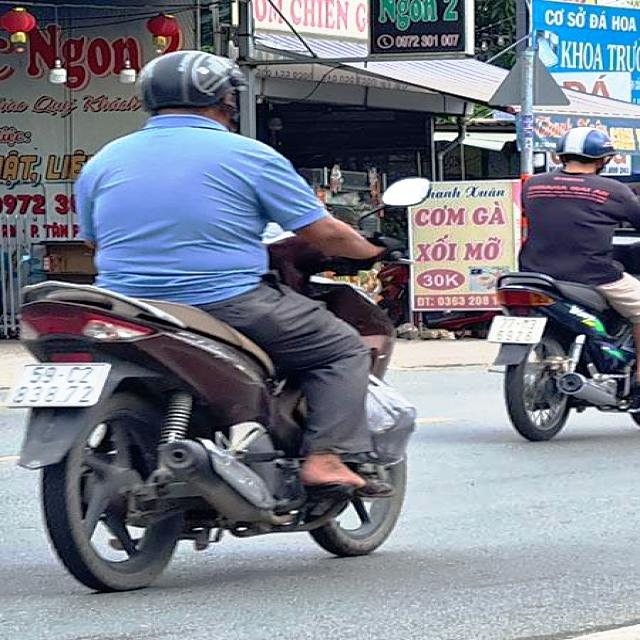license_plate: (2, 362, 116, 408)
